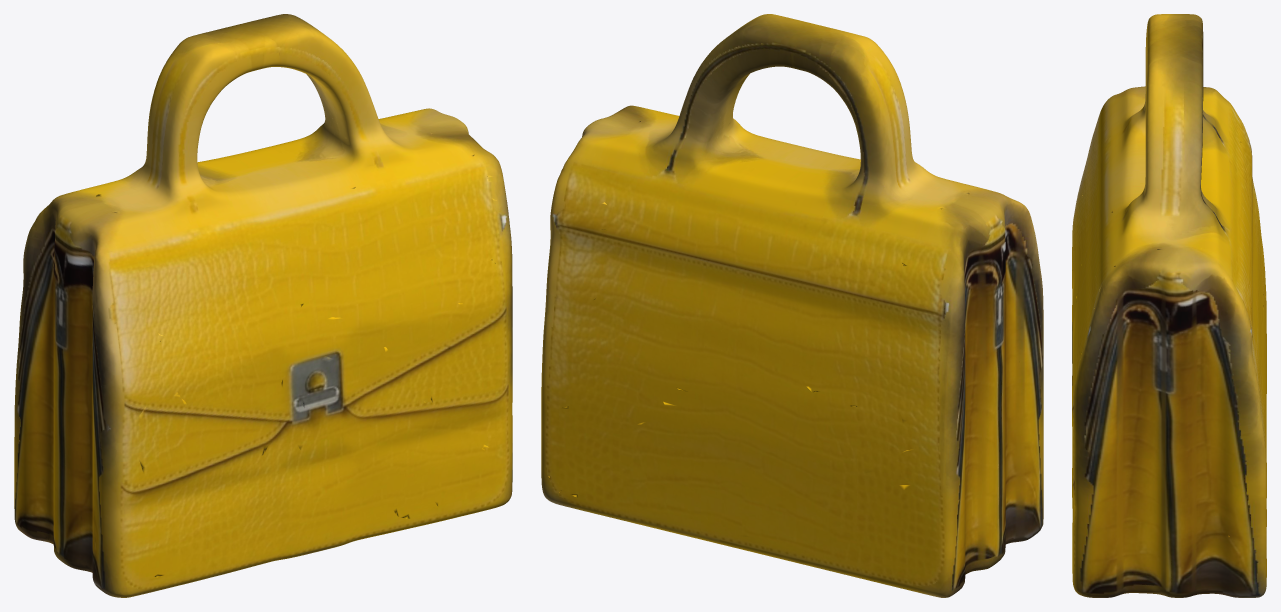
3 views of the same model, side by side, from view 1: azimuth 30°, elevation 25°; view 2: azimuth 150°, elevation 25°; view 3: azimuth 270°, elevation 25° (orthographic). The views are drawn at different scales.
Parts seen in each view (by area): view 1: geometry_0; view 2: geometry_0; view 3: geometry_0.
Boxes of the visible parts, left/top/right/bottom form: geometry_0: left=14, top=14, right=512, bottom=597; geometry_0: left=541, top=14, right=1043, bottom=597; geometry_0: left=1072, top=14, right=1266, bottom=597.
Size of the model in its own units: 0.8794 by 1 by 0.3795.
Materials: 1 (1 with a texture image).
